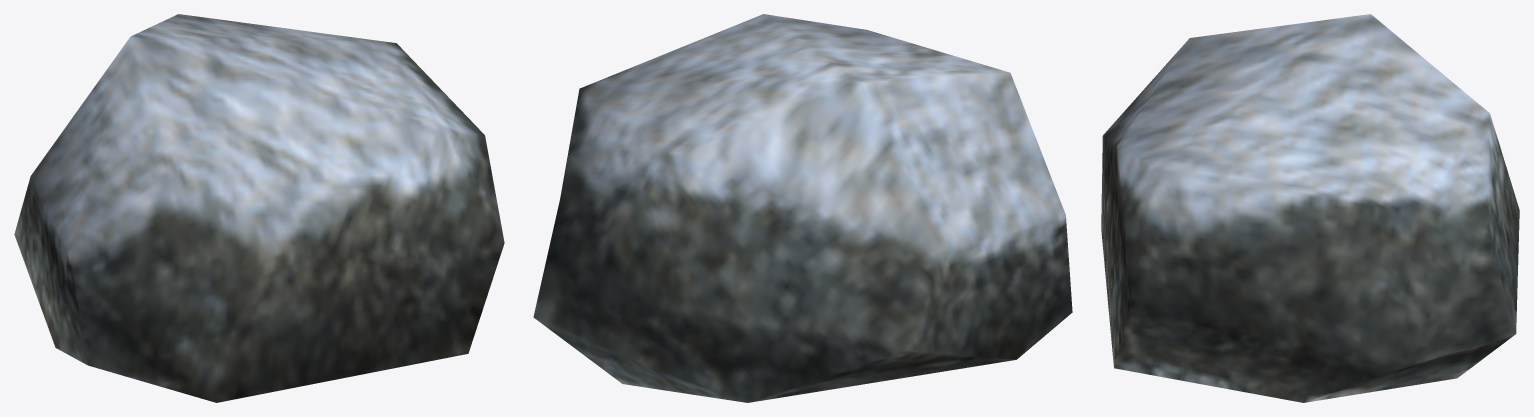
File: SC_bingfengyiji_shitou02.FBX
3 renders of one model, left to right at view 1: azimuth 30°, elevation 25°; view 2: azimuth 150°, elevation 25°; view 3: azimuth 270°, elevation 25°, orthographic. The views are drawn at different scales.
Visible parts, largest first — view 1: SC_bingfengyiji_shitou02; view 2: SC_bingfengyiji_shitou02; view 3: SC_bingfengyiji_shitou02.
Boxes of the visible parts, bbox=[...] form: SC_bingfengyiji_shitou02: bbox=[14, 14, 504, 402]; SC_bingfengyiji_shitou02: bbox=[533, 14, 1072, 402]; SC_bingfengyiji_shitou02: bbox=[1101, 14, 1519, 402].
Bounding box in the file's own units: 122 × 89.47 × 114.
